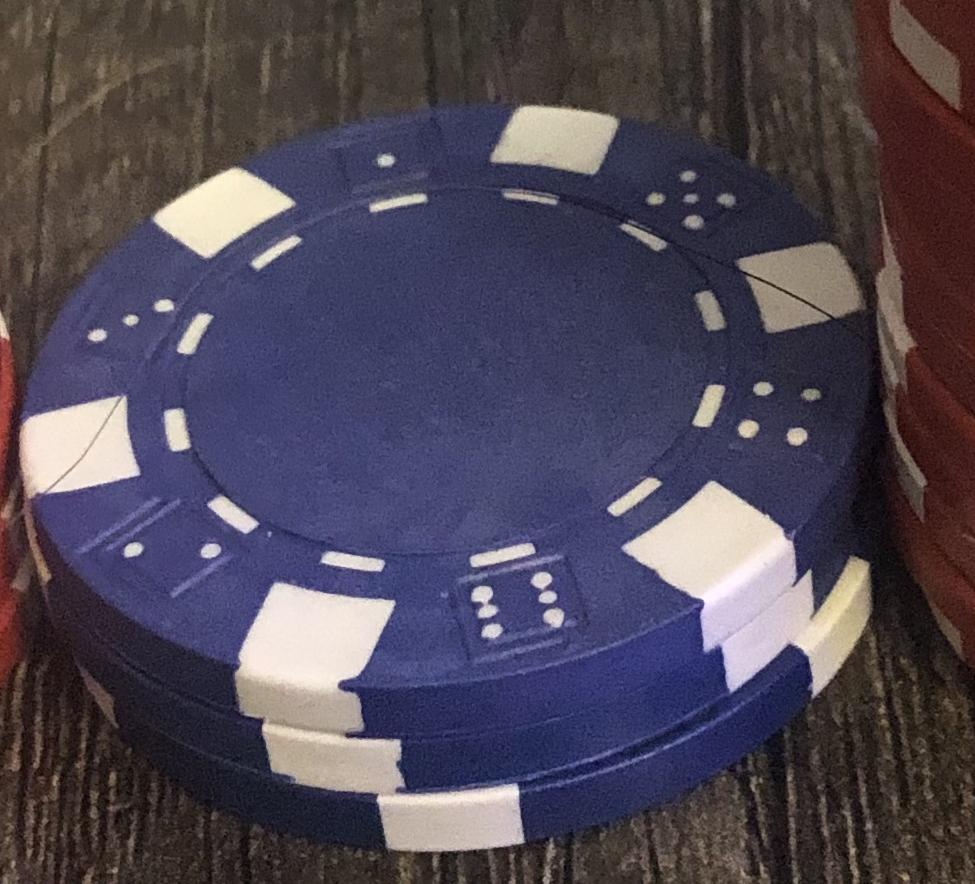Chip: (1, 1, 975, 884)
